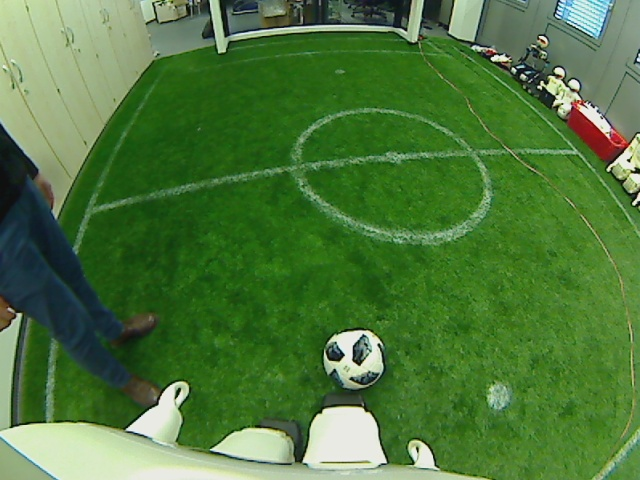ball: (320, 326, 385, 390)
